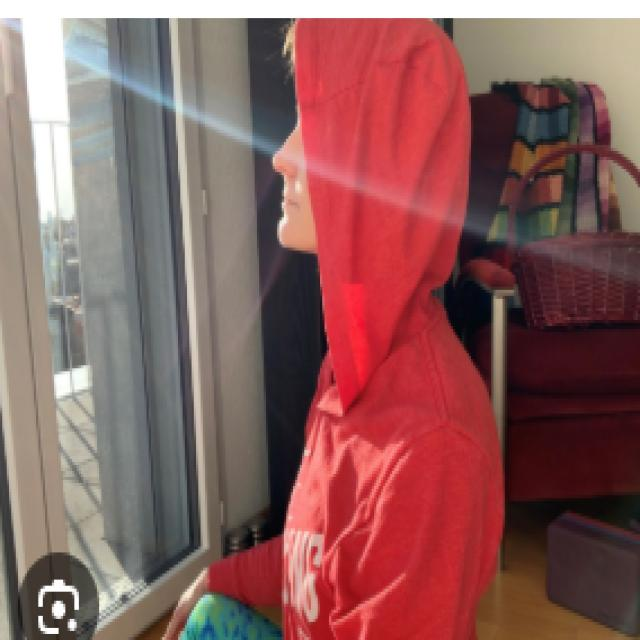4_capucha: (295, 19, 471, 419)
